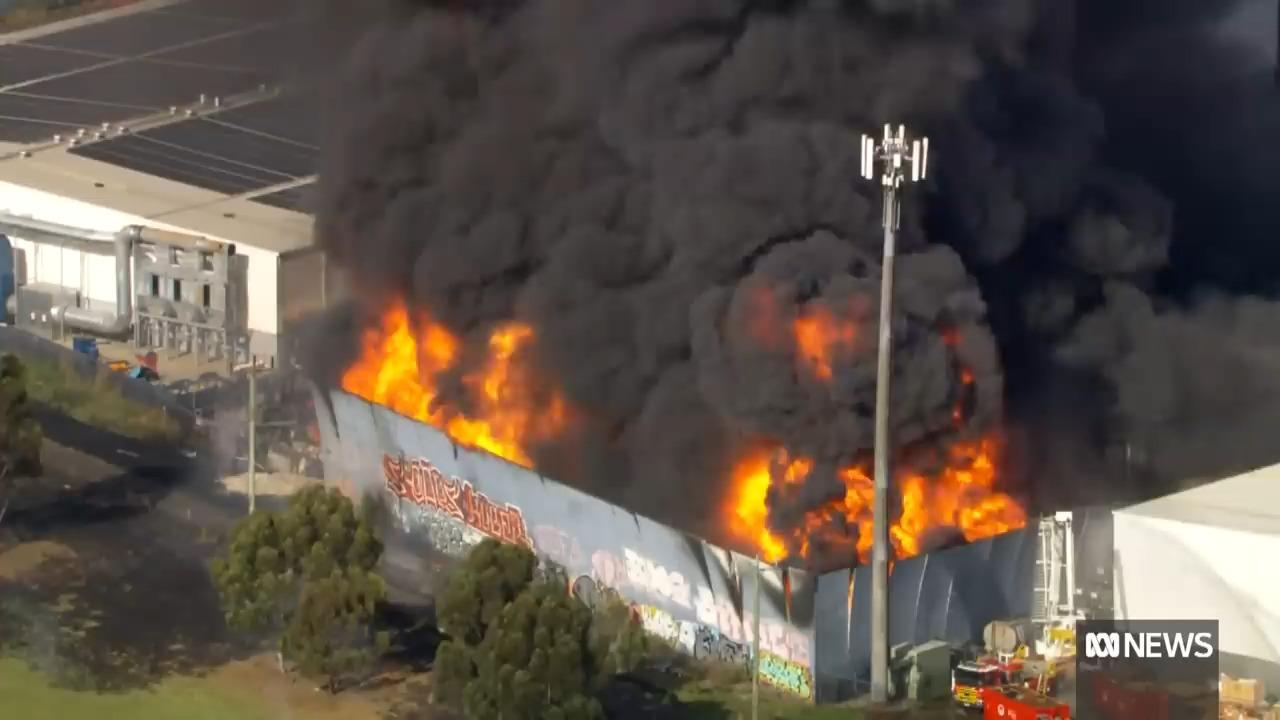fire: (710, 286, 1020, 559), (332, 294, 572, 470)
